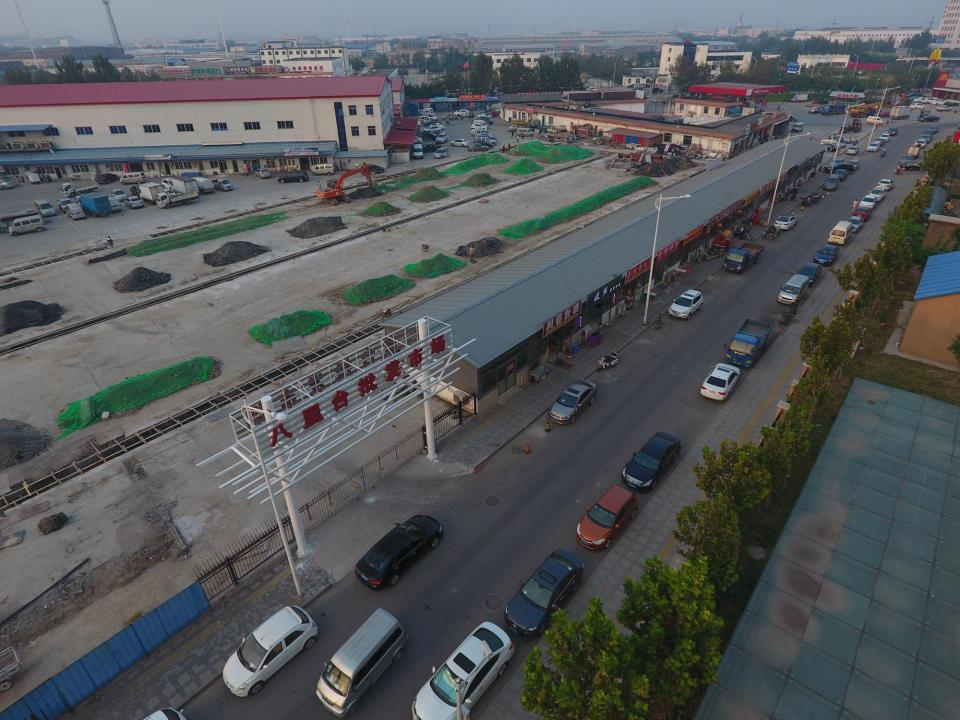car: (410, 622, 516, 720), (316, 606, 406, 716), (223, 604, 317, 696), (503, 547, 585, 637), (356, 514, 444, 591), (576, 484, 640, 551), (622, 433, 681, 494), (548, 378, 597, 426), (700, 362, 740, 403), (668, 287, 704, 319), (796, 262, 822, 289), (814, 244, 840, 266), (773, 214, 797, 231), (844, 216, 864, 234), (898, 161, 929, 171), (858, 195, 877, 211), (852, 206, 872, 221), (130, 184, 149, 198), (876, 178, 894, 192), (110, 188, 128, 202), (96, 173, 118, 184), (869, 187, 886, 201), (822, 139, 846, 148), (162, 178, 180, 190), (832, 168, 848, 181), (828, 136, 852, 144), (467, 143, 488, 152), (818, 143, 838, 152), (450, 138, 470, 147), (899, 155, 914, 166), (829, 158, 845, 168), (846, 159, 860, 170), (255, 168, 270, 178), (918, 115, 939, 122), (866, 142, 880, 152), (846, 145, 859, 155), (508, 124, 523, 132), (886, 127, 898, 136), (816, 98, 830, 105), (914, 140, 926, 148), (919, 134, 931, 142), (879, 133, 889, 142), (878, 111, 893, 117), (874, 138, 885, 146), (808, 106, 822, 112), (922, 131, 932, 138), (928, 126, 938, 133)
truck: (724, 318, 773, 366), (723, 242, 765, 272), (78, 191, 112, 217), (155, 190, 199, 209), (138, 181, 166, 205), (170, 176, 200, 197), (57, 182, 98, 197), (849, 106, 876, 118), (821, 103, 850, 114), (211, 178, 232, 192), (888, 106, 910, 119), (55, 198, 73, 213), (72, 195, 90, 210), (420, 143, 442, 153), (790, 93, 809, 103), (908, 144, 920, 159)
van: (778, 274, 808, 305), (8, 214, 46, 236), (827, 221, 853, 244), (278, 170, 309, 184), (191, 177, 215, 195), (34, 199, 56, 217), (823, 163, 855, 175), (120, 171, 147, 185), (822, 173, 840, 191), (65, 202, 83, 220), (360, 163, 385, 175), (104, 196, 122, 212), (312, 163, 335, 175), (820, 139, 841, 150), (866, 115, 884, 126), (434, 147, 448, 159), (414, 144, 423, 160), (516, 128, 534, 136), (792, 122, 804, 132), (782, 115, 797, 122)
